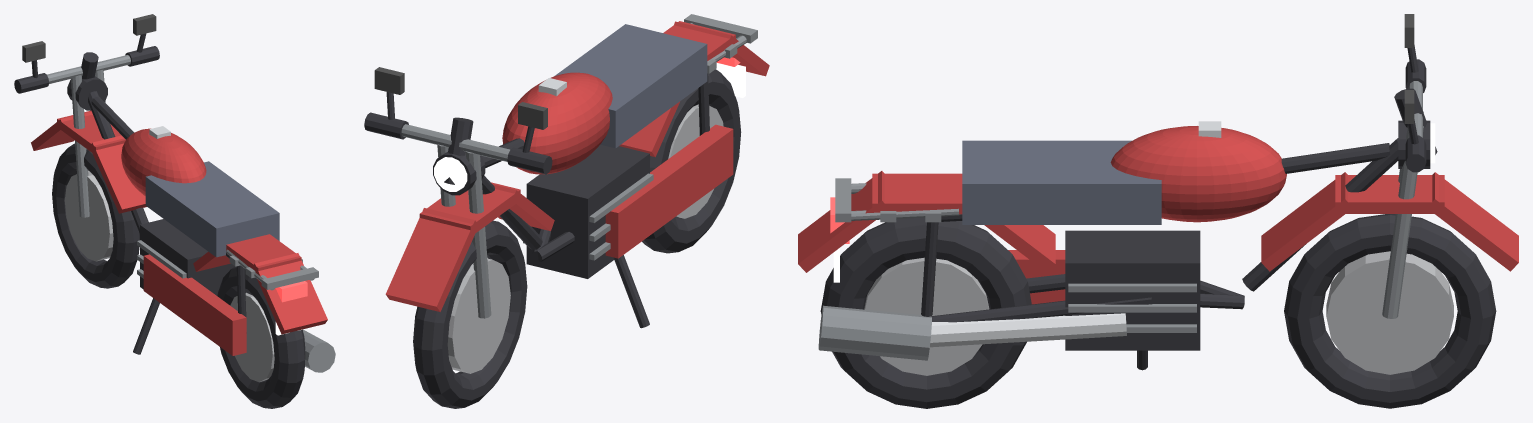
File: okada.glb
3 renders of one model, left to right at view 1: azimuth 30°, elevation 25°; view 2: azimuth 150°, elevation 25°; view 3: azimuth 270°, elevation 25°, orthographic. The views are drawn at different scales.
Visible parts, largest first — view 1: okada_body, okada_wheel_F, okada_wheel_R; view 2: okada_body, okada_wheel_F, okada_wheel_R; view 3: okada_body, okada_wheel_F, okada_wheel_R.
Part boxes in pixels (bbox=[...]): okada_body: bbox=[14, 14, 335, 372]; okada_wheel_F: bbox=[52, 143, 139, 288]; okada_wheel_R: bbox=[217, 266, 305, 408]; okada_body: bbox=[364, 14, 769, 328]; okada_wheel_F: bbox=[413, 220, 527, 408]; okada_wheel_R: bbox=[642, 69, 741, 253]; okada_body: bbox=[798, 14, 1518, 370]; okada_wheel_F: bbox=[1284, 214, 1496, 408]; okada_wheel_R: bbox=[820, 217, 1031, 408].
Size of the model in its own units: 0.7 by 1.19 by 2.24.
